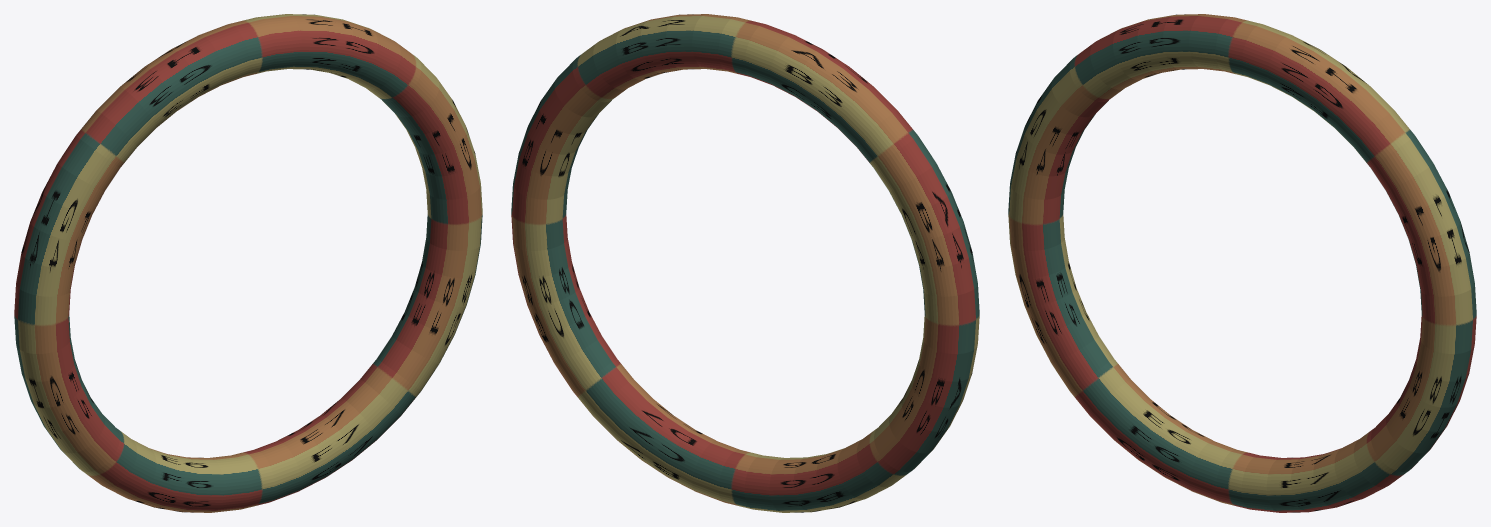
Rendered from texture_torus_R11_r0.glb.
3 views of the same model, side by side, from view 1: azimuth 30°, elevation 25°; view 2: azimuth 150°, elevation 25°; view 3: azimuth 330°, elevation 25° (orthographic).
Visible parts, largest first — view 1: world; view 2: world; view 3: world.
Part boxes in pixels (<box>): world: <box>14,14,482,512</box>; world: <box>511,14,979,512</box>; world: <box>1008,14,1476,512</box>.
Size of the model in its own units: 19.33 by 19.3 by 2.
1 material, 1 textured.
